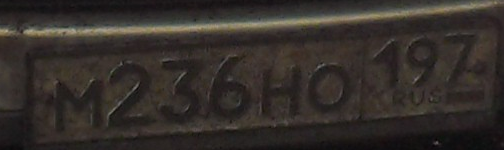character: (107, 60, 154, 130), (159, 55, 205, 126), (52, 76, 105, 133), (208, 55, 252, 121), (258, 65, 303, 124), (307, 63, 352, 112), (442, 29, 478, 84), (405, 31, 438, 86), (372, 35, 402, 88)
